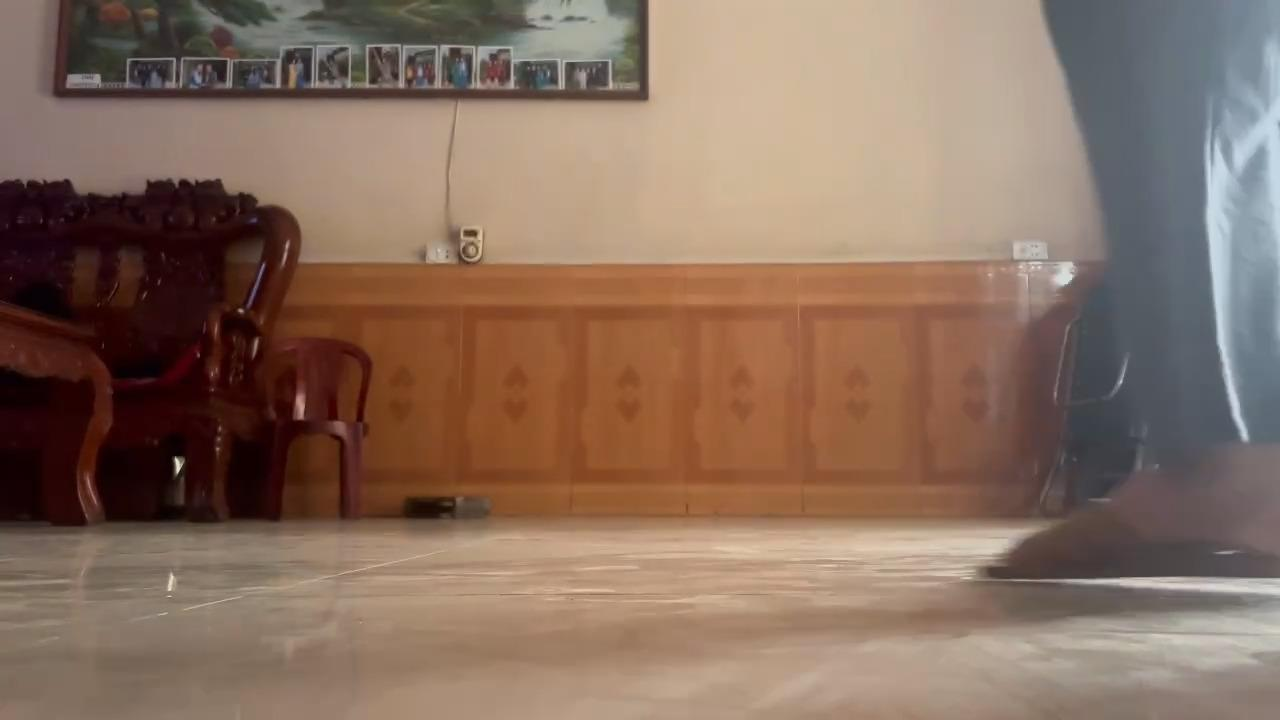no-boot: (977, 447, 1280, 599)
